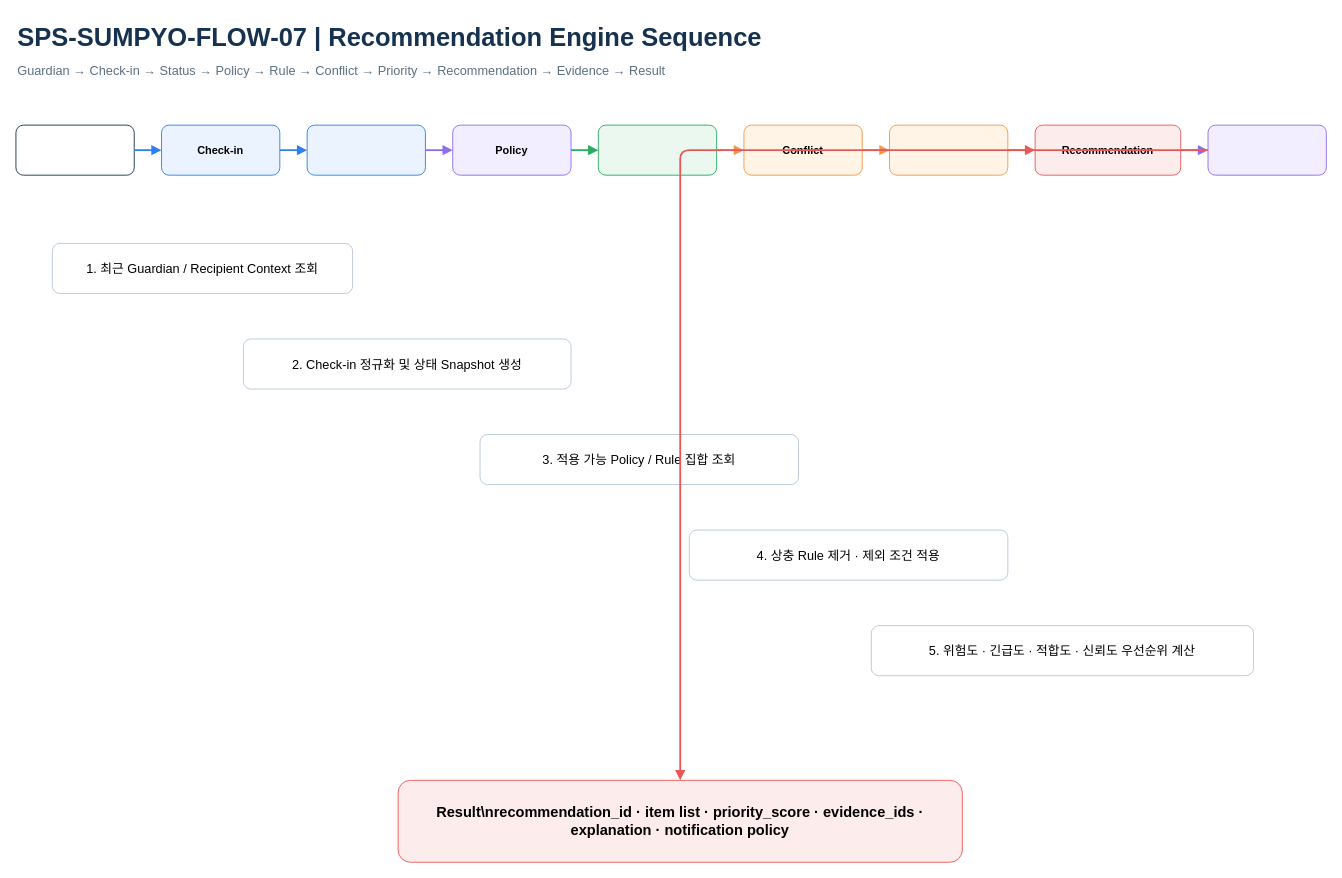
Some shapes in this 1342 by 878 pixel diagram are drawn without their labels. Here are the shapes that lost their labels. From the top down, the centre of each, then its label:
(74,149): Guardian
(365,149): Status
(657,149): Rule
(948,149): Priority
(1266,149): Evidence
